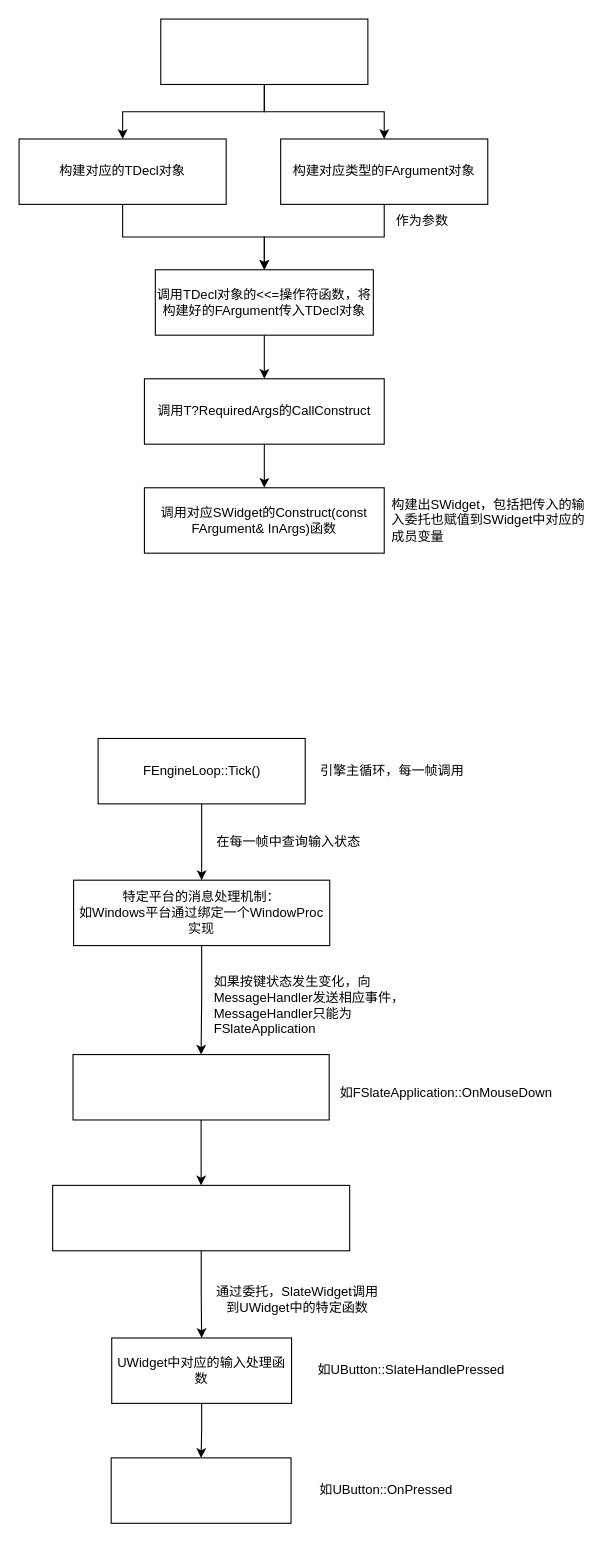
This 605x1542 diagram has some shape labels left out. Here are the shapes that lost their labels. From the top down, the centre of each, then its label:
pixel 264 51: 调用UWidget::RebuildWidget
pixel 200 1086: FSlateApplication中对应的按钮事件
pixel 201 1217: 获取焦点路径上的所有SlateWidget，按照一定的顺序将按钮信息传递到SlateWidget中
pixel 200 1490: UWidget中所绑定的委托函数
